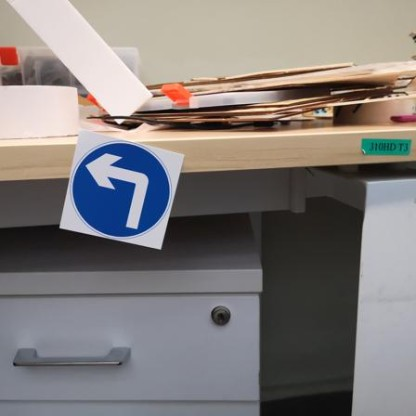left: (60, 125, 186, 257)
